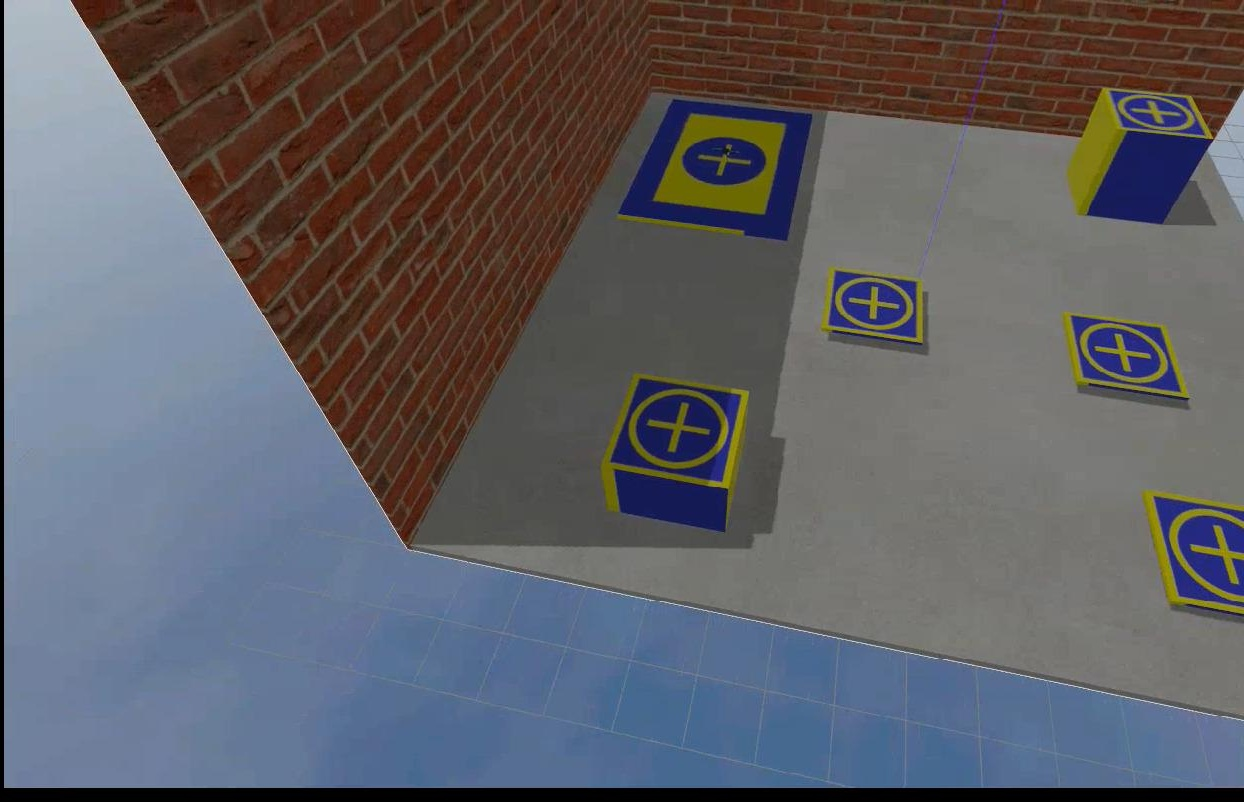large_base: (616, 104, 805, 234)
small_base: (594, 373, 749, 501), (1143, 491, 1232, 612), (1062, 317, 1184, 398), (818, 268, 927, 347), (1098, 96, 1204, 147)
